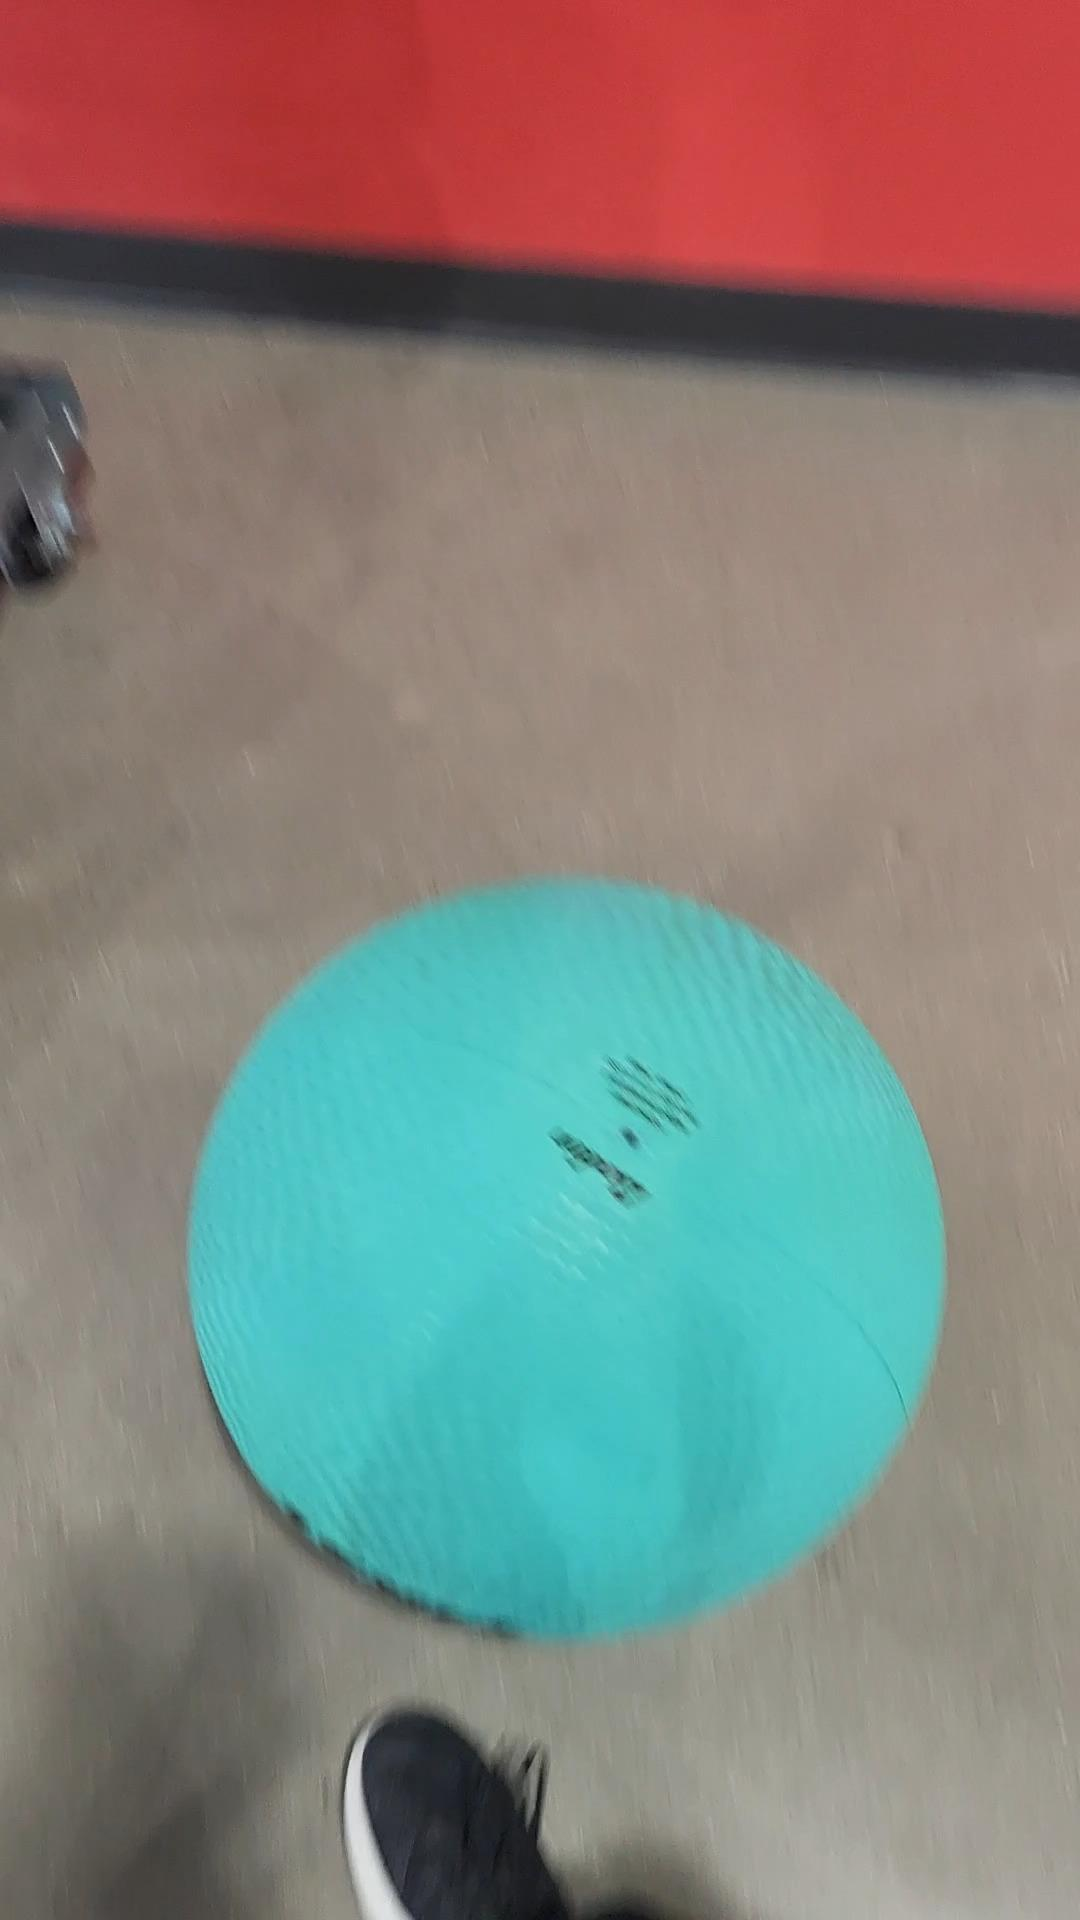algae: (211, 881, 942, 1645)
